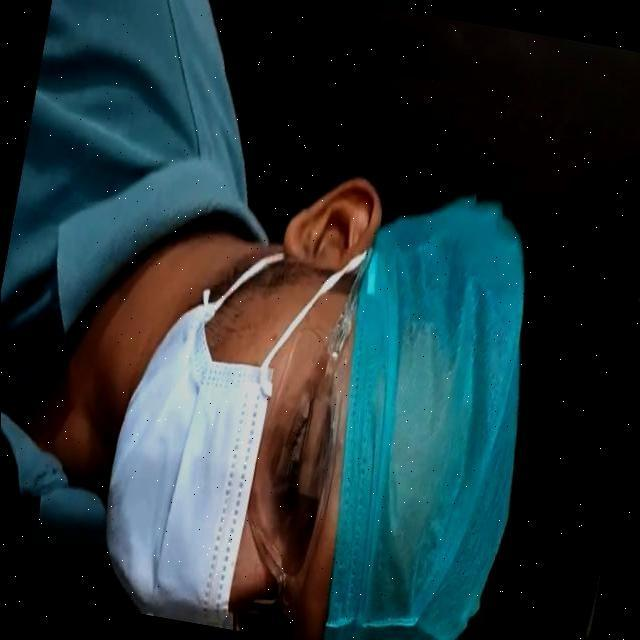gloves: (323, 184, 551, 638)
mask: (84, 296, 276, 640)
